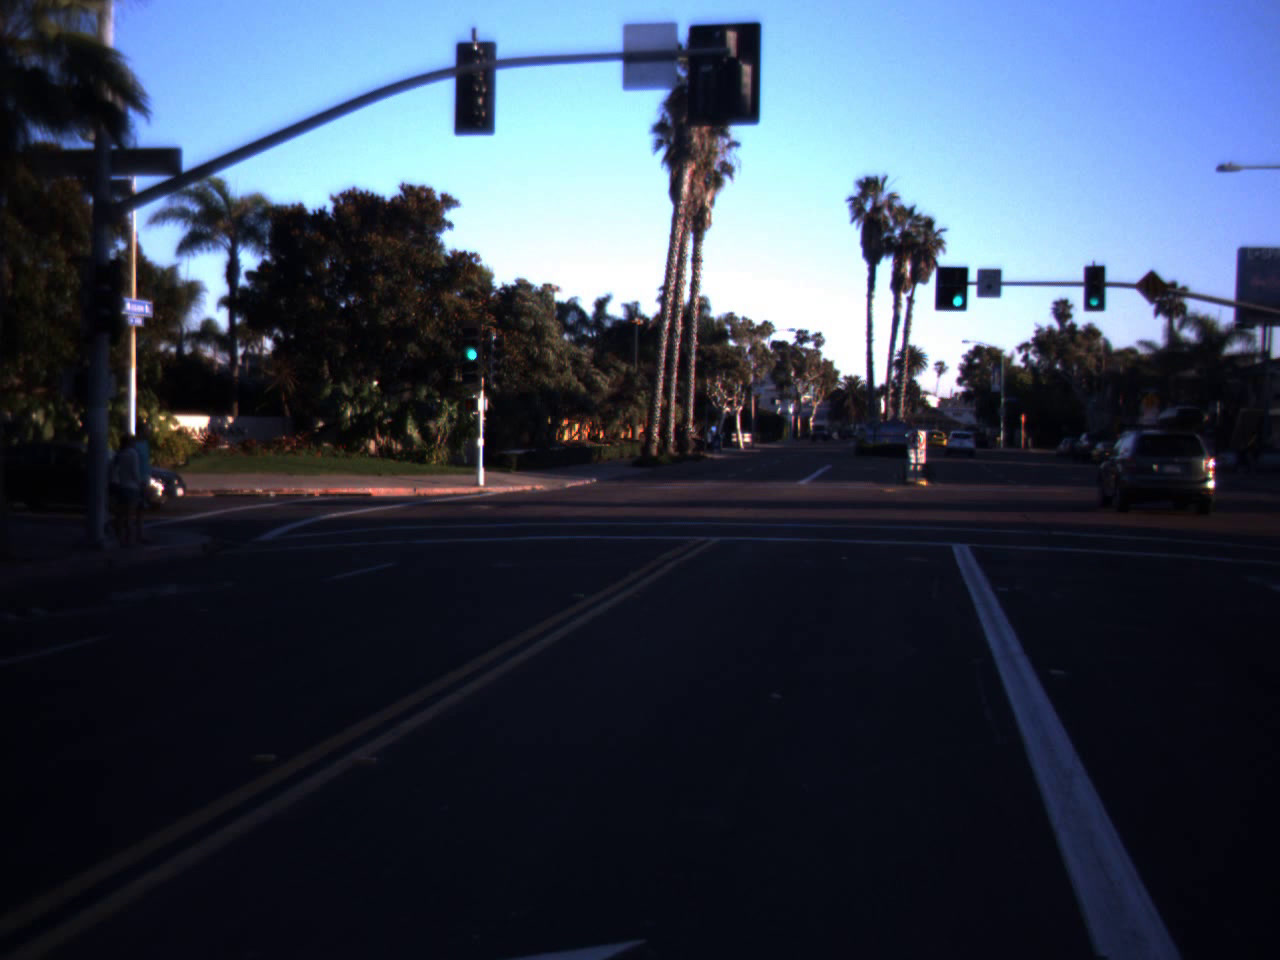go: (460, 315, 484, 365), (946, 265, 970, 310), (1085, 282, 1103, 307)
